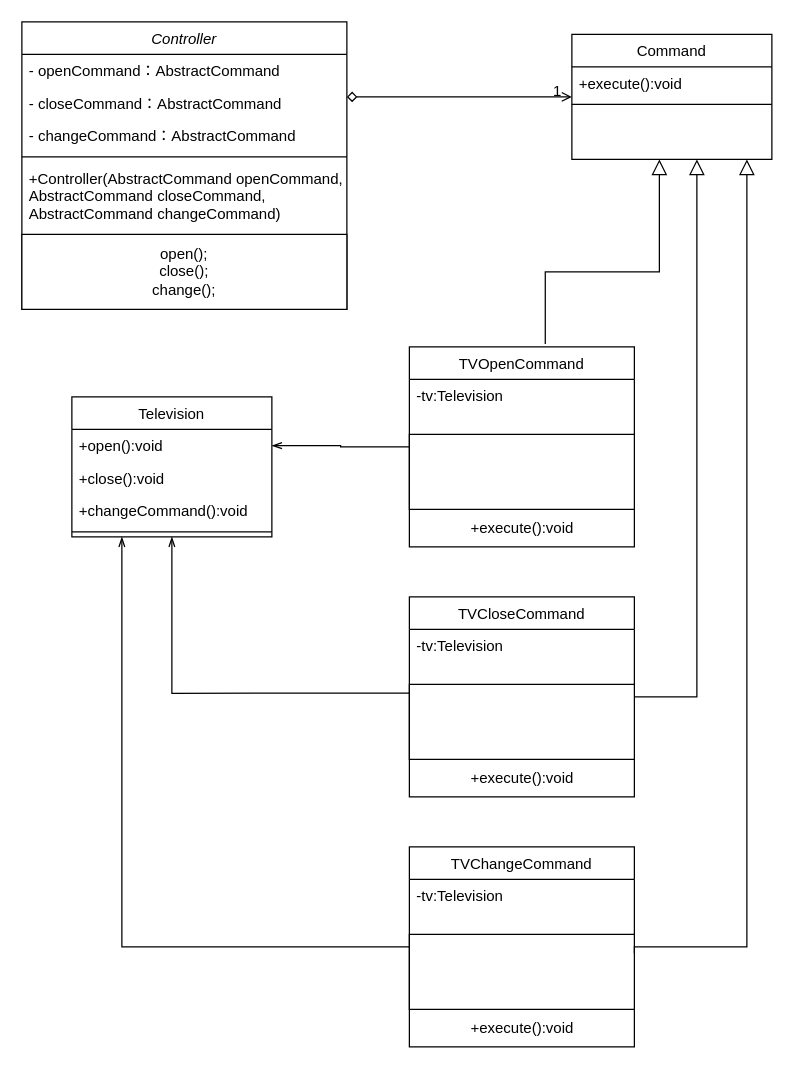
This 794x1069 diagram has some shape labels left out. Here are the shapes that lost their labels. From the top down, the centre of each, then its label:
At point 521,471: "+TVOpenCOmmand()".
At point 521,721: "+TVCloseCOmmand()".
At point 521,971: "+TVChangeCOmmand()".
